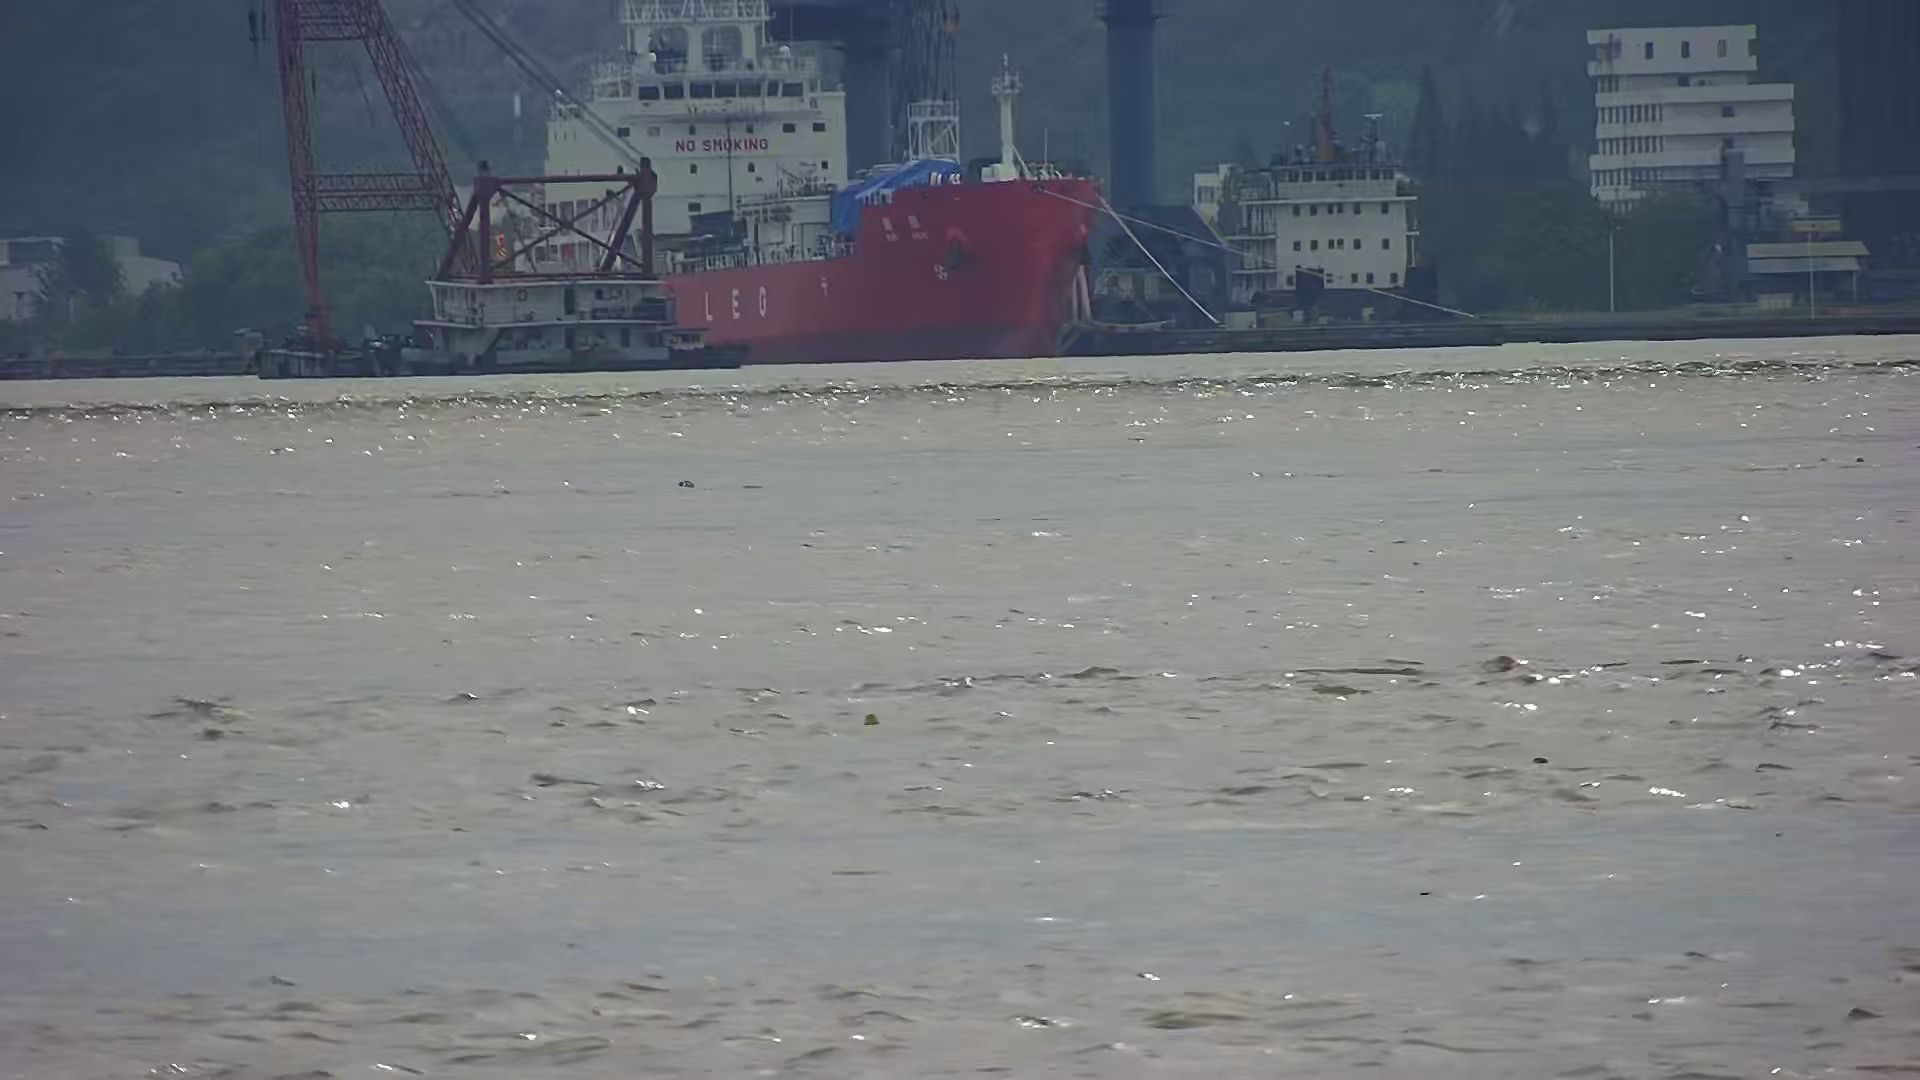harbor: (815, 7, 1491, 361)
ship: (452, 3, 1101, 361), (253, 3, 742, 376)
